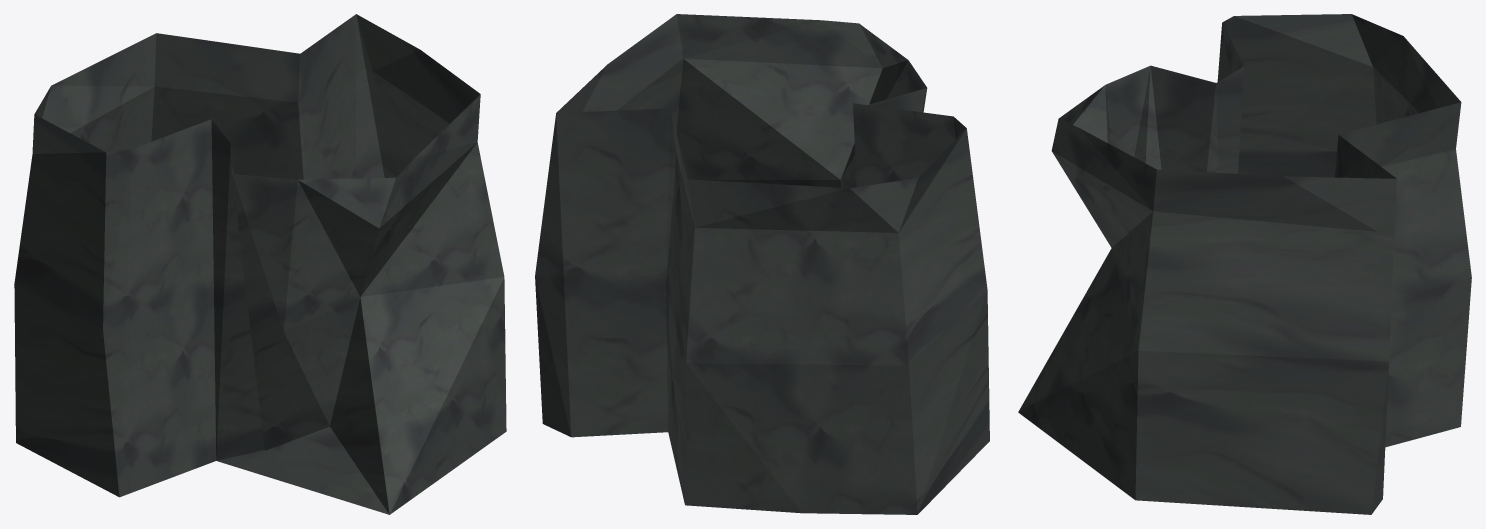
File: Ridge_5_Lat.gltf
The picture shows the model from 3 angles, left to right: view 1: azimuth 30°, elevation 25°; view 2: azimuth 150°, elevation 25°; view 3: azimuth 270°, elevation 25°; orthographic projection. The views are drawn at different scales.
Parts seen in each view (by area): view 1: Ridge_5_Lat; view 2: Ridge_5_Lat; view 3: Ridge_5_Lat.
Boxes of the visible parts, x1,y1,x2,y2 form: Ridge_5_Lat: (14, 14, 506, 514); Ridge_5_Lat: (535, 14, 989, 514); Ridge_5_Lat: (1018, 14, 1471, 514).
Bounding box in the file's own units: 37.83 × 32.77 × 40.14.
1 material, 1 textured.
